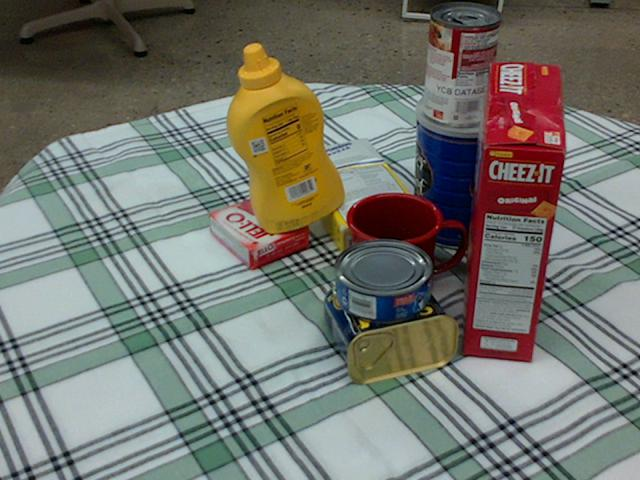cracker_box: (458, 62, 568, 361)
gelatin_box: (209, 195, 309, 271)
master_chef_can: (410, 87, 518, 249)
mug: (346, 193, 466, 308)
mustard_bottle: (226, 44, 343, 233)
potted_meat_can: (327, 265, 462, 381)
sugar_box: (292, 135, 422, 257)
tomato_soup_can: (423, 3, 500, 126)
tuna_fish_can: (334, 239, 432, 323)
